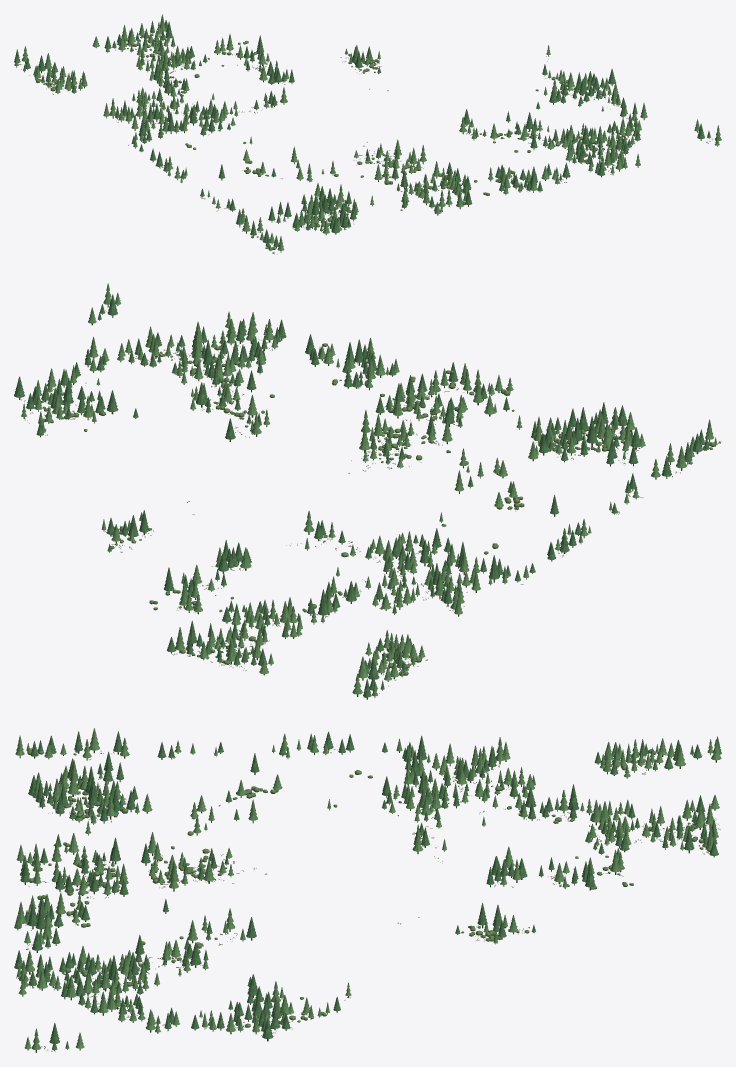
The model's file is Foliage_P2.fbx.
3 renders of one model, top to bottom at view 1: azimuth 30°, elevation 25°; view 2: azimuth 150°, elevation 25°; view 3: azimuth 270°, elevation 25°, orthographic. The views are drawn at different scales.
Bounding box in the file's own units: 61403 × 4919 × 61353.
